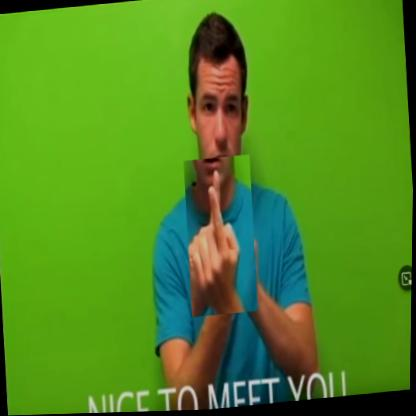NiceToMeetYou: (182, 156, 261, 319)
